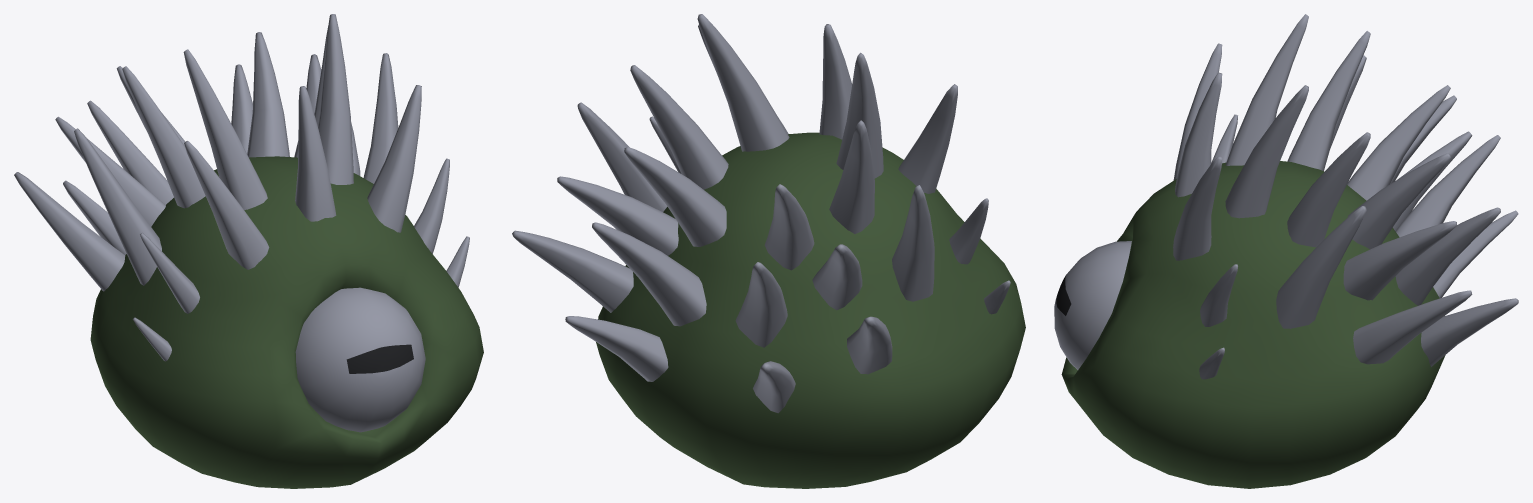
The model's file is GreenSpikyBlob.glb.
3 views of the same model, side by side, from view 1: azimuth 30°, elevation 25°; view 2: azimuth 150°, elevation 25°; view 3: azimuth 270°, elevation 25° (orthographic). The views are drawn at different scales.
Parts seen in each view (by area): view 1: SK_GreenSpikyBlob; view 2: SK_GreenSpikyBlob; view 3: SK_GreenSpikyBlob.
Part boxes in pixels (bbox=[...]): SK_GreenSpikyBlob: bbox=[14, 14, 483, 488]; SK_GreenSpikyBlob: bbox=[512, 14, 1025, 488]; SK_GreenSpikyBlob: bbox=[1054, 14, 1518, 488].
Bounding box in the file's own units: 3.5 × 4.14 × 4.16.
Materials: 1 (1 with a texture image).
